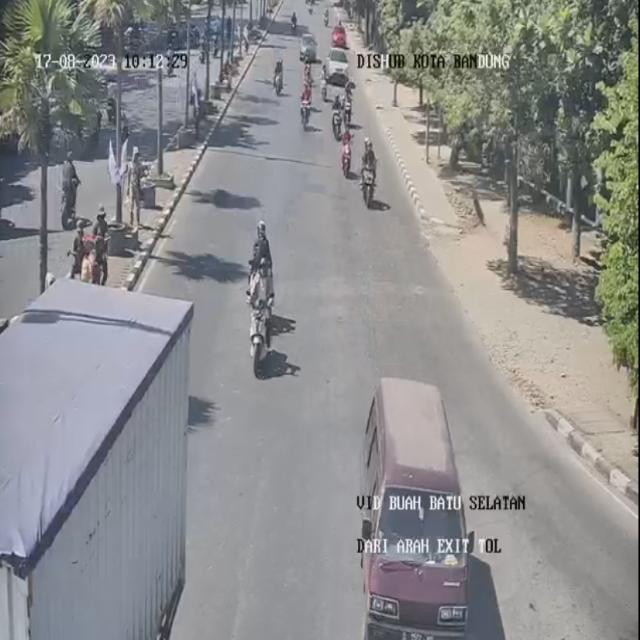cars: (355, 363, 466, 637), (324, 40, 346, 80), (298, 34, 322, 59), (330, 19, 350, 46)
motorcycle: (240, 264, 272, 358), (242, 224, 274, 301), (358, 133, 378, 208), (339, 122, 359, 174), (297, 79, 315, 131), (328, 92, 343, 142), (342, 78, 359, 116), (273, 61, 288, 100)
truck: (0, 284, 194, 639)
